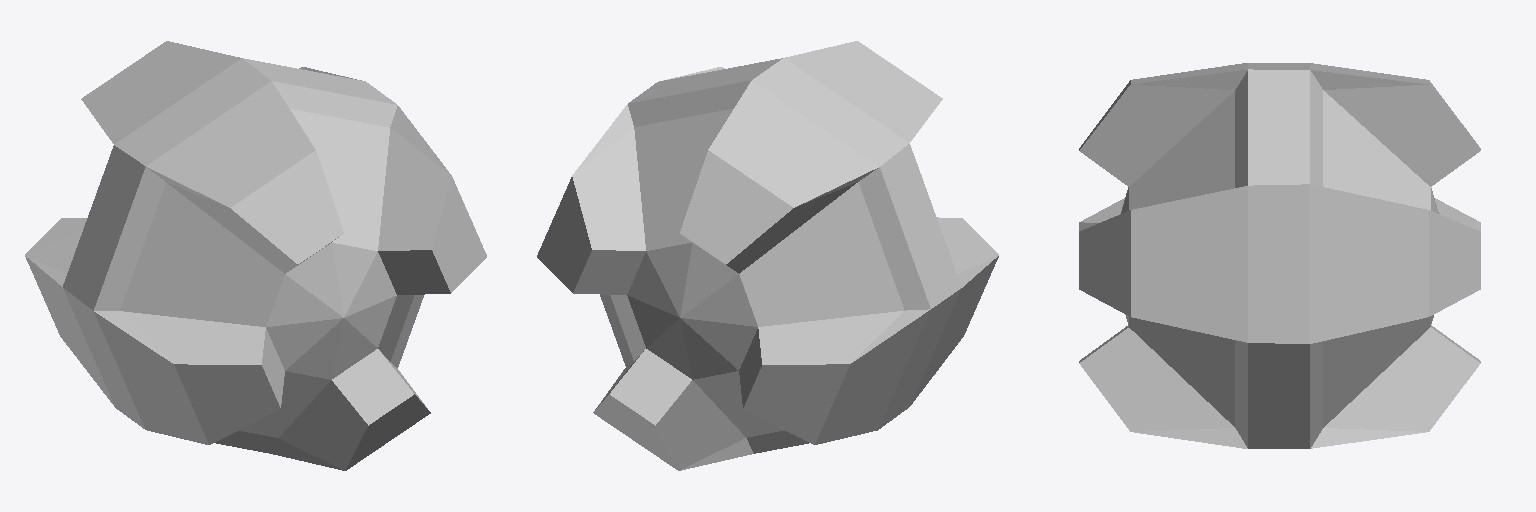
The model's file is megaBomb.obj.
3 views of the same model, side by side, from view 1: azimuth 30°, elevation 25°; view 2: azimuth 150°, elevation 25°; view 3: azimuth 270°, elevation 25° (orthographic).
Parts seen in each view (by area): view 1: b5544d27_CMDL; view 2: b5544d27_CMDL; view 3: b5544d27_CMDL.
Boxes of the visible parts, x1=… form: b5544d27_CMDL: x1=25, y1=41, x2=486, y2=470; b5544d27_CMDL: x1=537, y1=41, x2=998, y2=470; b5544d27_CMDL: x1=1079, y1=63, x2=1480, y2=448.
Bounding box in the file's own units: 0.6742 × 0.6742 × 0.658.